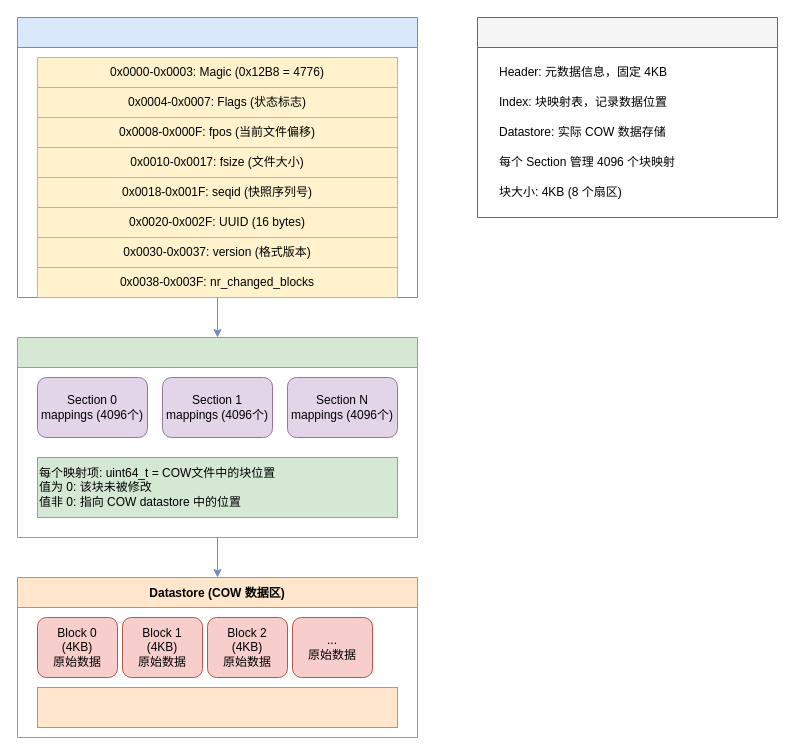
The diagram is 795 pixels wide and 755 high, and some of its shapes have lost their labels. The shapes that lost their labels are listed below. From the top down, each one's box as (x1, y1, x2, y2) in pixels, then its label:
(476, 16, 778, 218): COW 文件结构说明
(16, 16, 418, 298): Header (4096 bytes)
(16, 336, 418, 538): Index (块映射表)
(36, 686, 398, 728): 写前复制 (Copy-on-Write): 保存被覆盖前的原始数据
